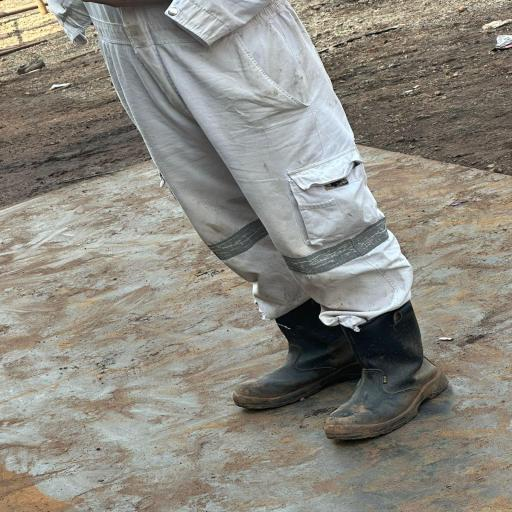safety_shoe: (312, 298, 458, 440), (223, 298, 368, 412)
